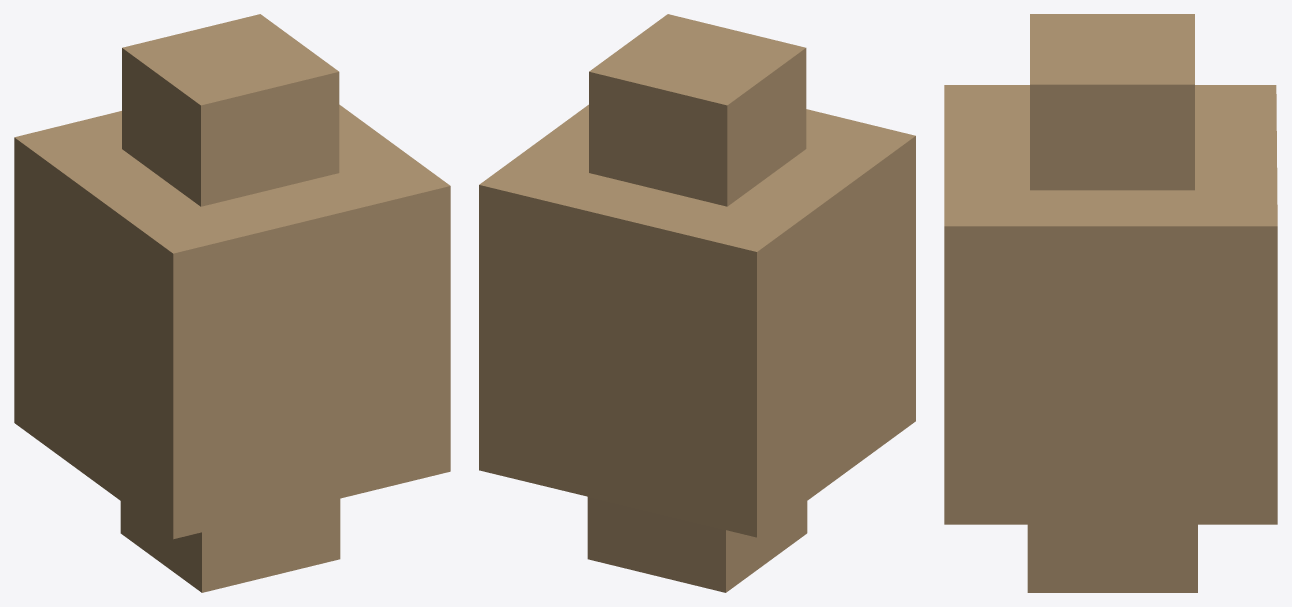
File: Egg.fbx
3 renders of one model, left to right at view 1: azimuth 30°, elevation 25°; view 2: azimuth 150°, elevation 25°; view 3: azimuth 270°, elevation 25°, orthographic. The views are drawn at different scales.
Parts seen in each view (by area): view 1: pCube4; view 2: pCube4; view 3: pCube4.
Part boxes in pixels (left/top/right/bottom): pCube4: left=14, top=14, right=450, bottom=592; pCube4: left=479, top=14, right=915, bottom=592; pCube4: left=944, top=14, right=1277, bottom=592.
Bounding box in the file's own units: 2.81 × 4.71 × 2.8.
